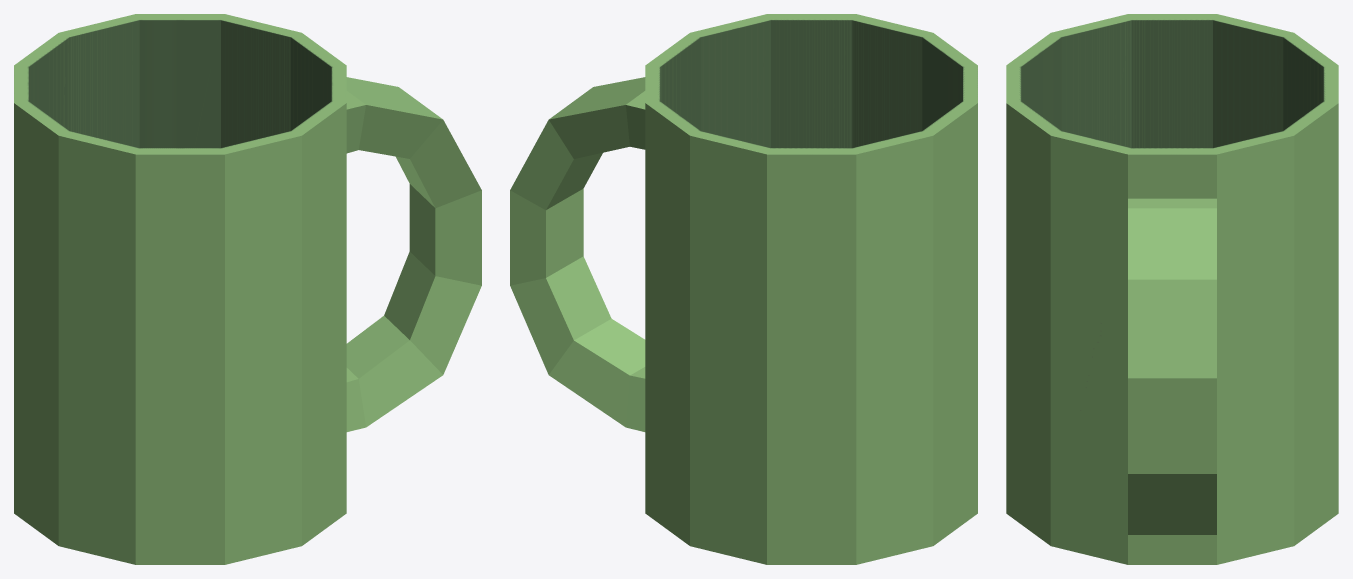
File: Mug_Green.fbx
3 renders of one model, left to right at view 1: azimuth 30°, elevation 25°; view 2: azimuth 150°, elevation 25°; view 3: azimuth 270°, elevation 25°, orthographic.
Parts seen in each view (by area): view 1: Mug.003; view 2: Mug.003; view 3: Mug.003.
Part boxes in pixels (<box>): Mug.003: <box>14,14,481,564</box>; Mug.003: <box>510,14,977,564</box>; Mug.003: <box>1006,14,1338,564</box>.
Bounding box in the file's own units: 10.79 × 10 × 7.34.
